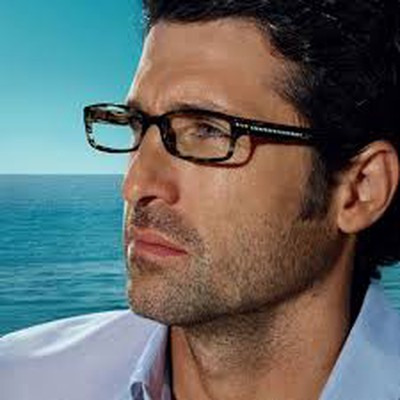eywear: (72, 57, 324, 195)
